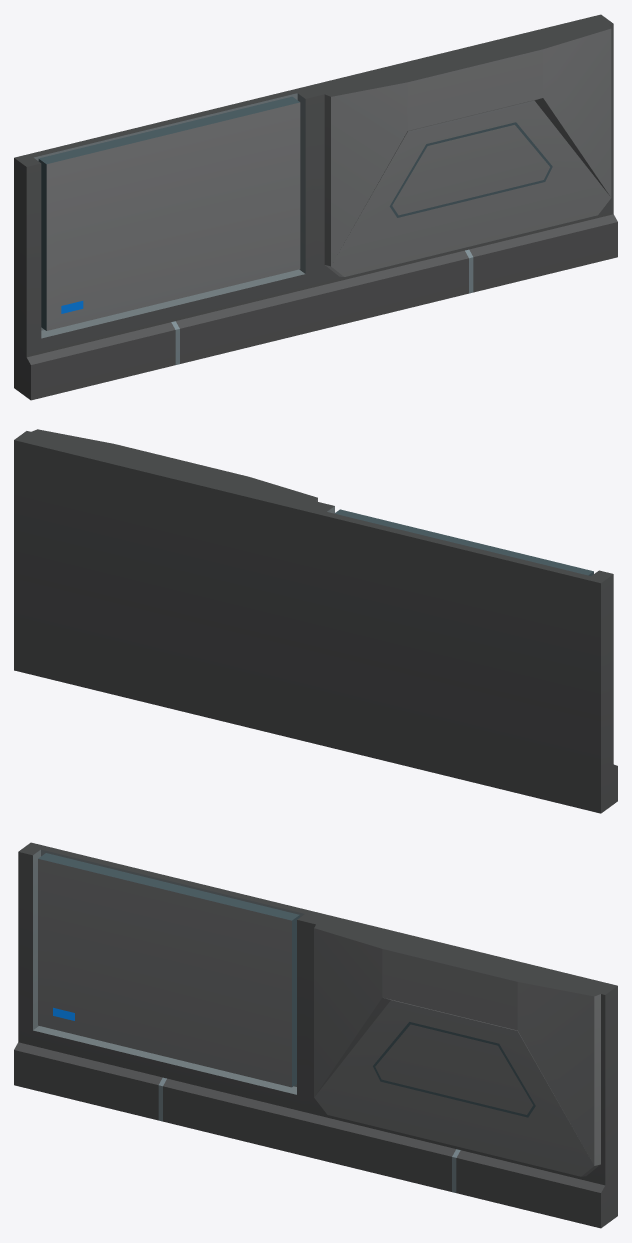
File: Wall_type_B_033.glb
The picture shows the model from 3 angles, top to bottom: view 1: azimuth 30°, elevation 25°; view 2: azimuth 150°, elevation 25°; view 3: azimuth 330°, elevation 25°; orthographic projection.
Parts seen in each view (by area): view 1: Wall_type_B_033; view 2: Wall_type_B_033; view 3: Wall_type_B_033.
Part boxes in pixels (bbox=[...]): Wall_type_B_033: bbox=[14, 14, 617, 400]; Wall_type_B_033: bbox=[14, 429, 617, 813]; Wall_type_B_033: bbox=[14, 842, 617, 1228].
Size of the model in its own units: 4 by 1.5 by 0.25.
Materials: 2 (2 with a texture image).
